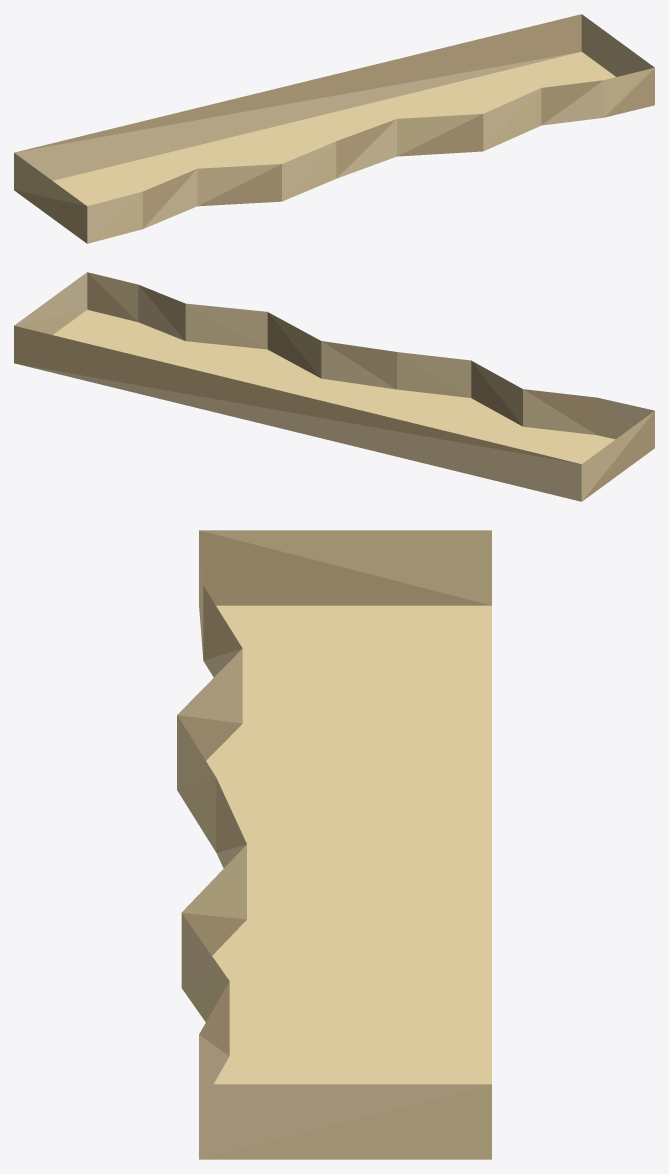
3 renders of one model, top to bottom at view 1: azimuth 30°, elevation 25°; view 2: azimuth 150°, elevation 25°; view 3: azimuth 270°, elevation 25°, orthographic. The views are drawn at different scales.
Parts seen in each view (by area): view 1: 岸壁纸层.001; view 2: 岸壁纸层.001; view 3: 岸壁纸层.001.
Boxes of the visible parts, <box> form: 岸壁纸层.001: <box>14,14,654,243</box>; 岸壁纸层.001: <box>14,272,654,501</box>; 岸壁纸层.001: <box>177,530,491,1159</box>.
Size of the model in its own units: 3 by 0.19 by 0.72.
